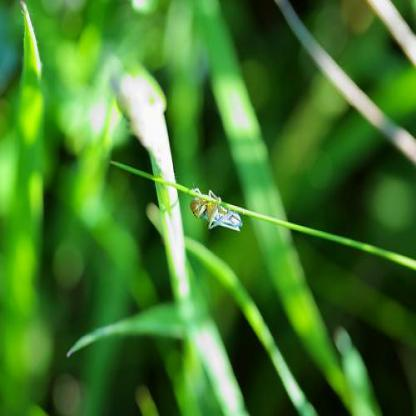Green-Leafhopper: (188, 183, 245, 236)
